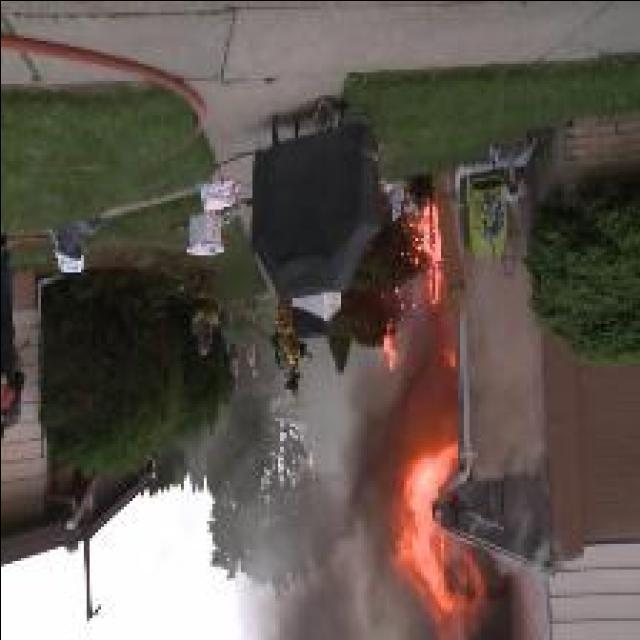Fire: (394, 443, 483, 640), (404, 202, 442, 310), (382, 334, 396, 377)
